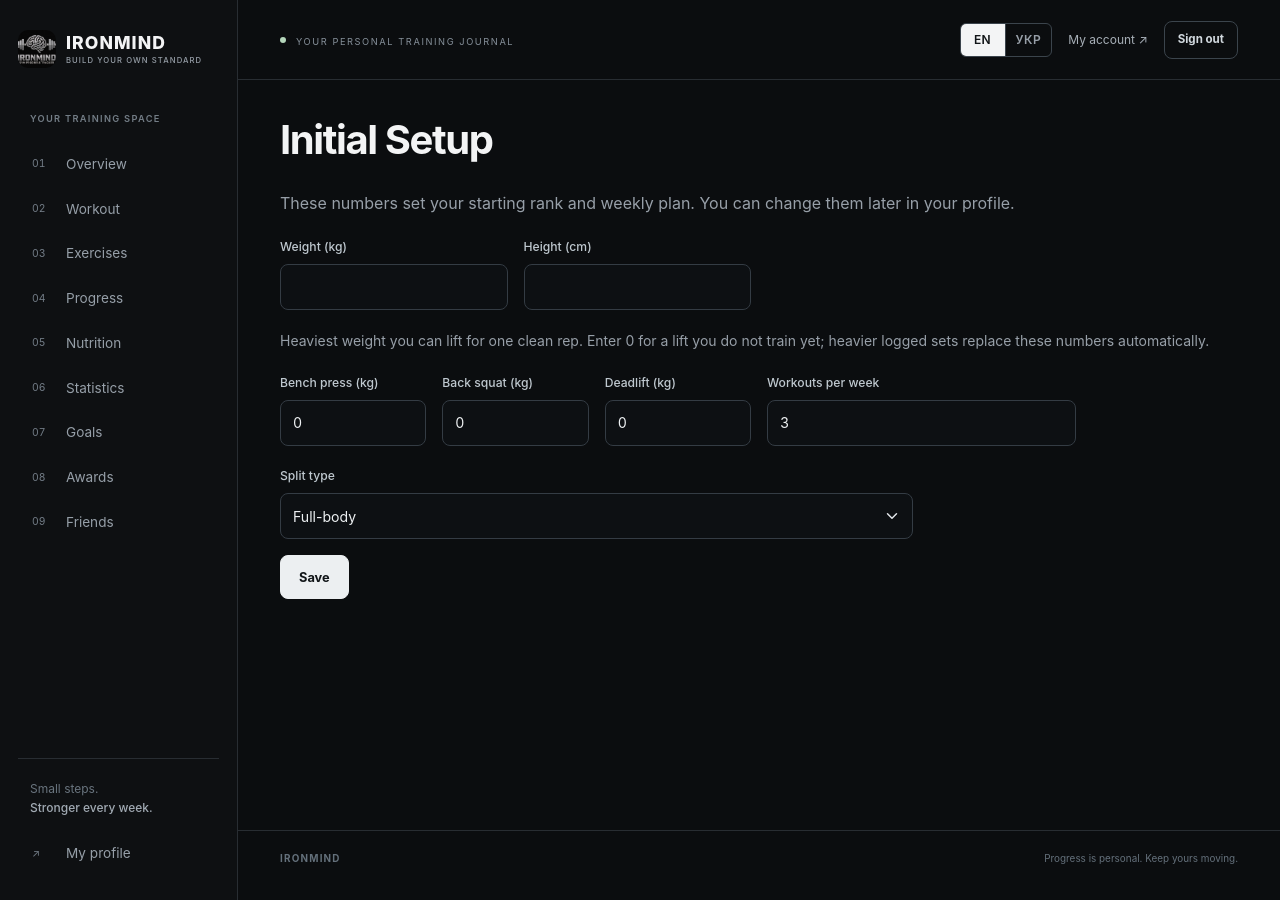
Test: app › asks a new account to finish the setup and then opens the overview
The image size is (1280, 900).
Check: the heading "Initial Setup" is shown, box [280, 115, 493, 164]
In the number field labelled "Weight (kg)": (394, 287) [280, 264, 508, 310], type "80"
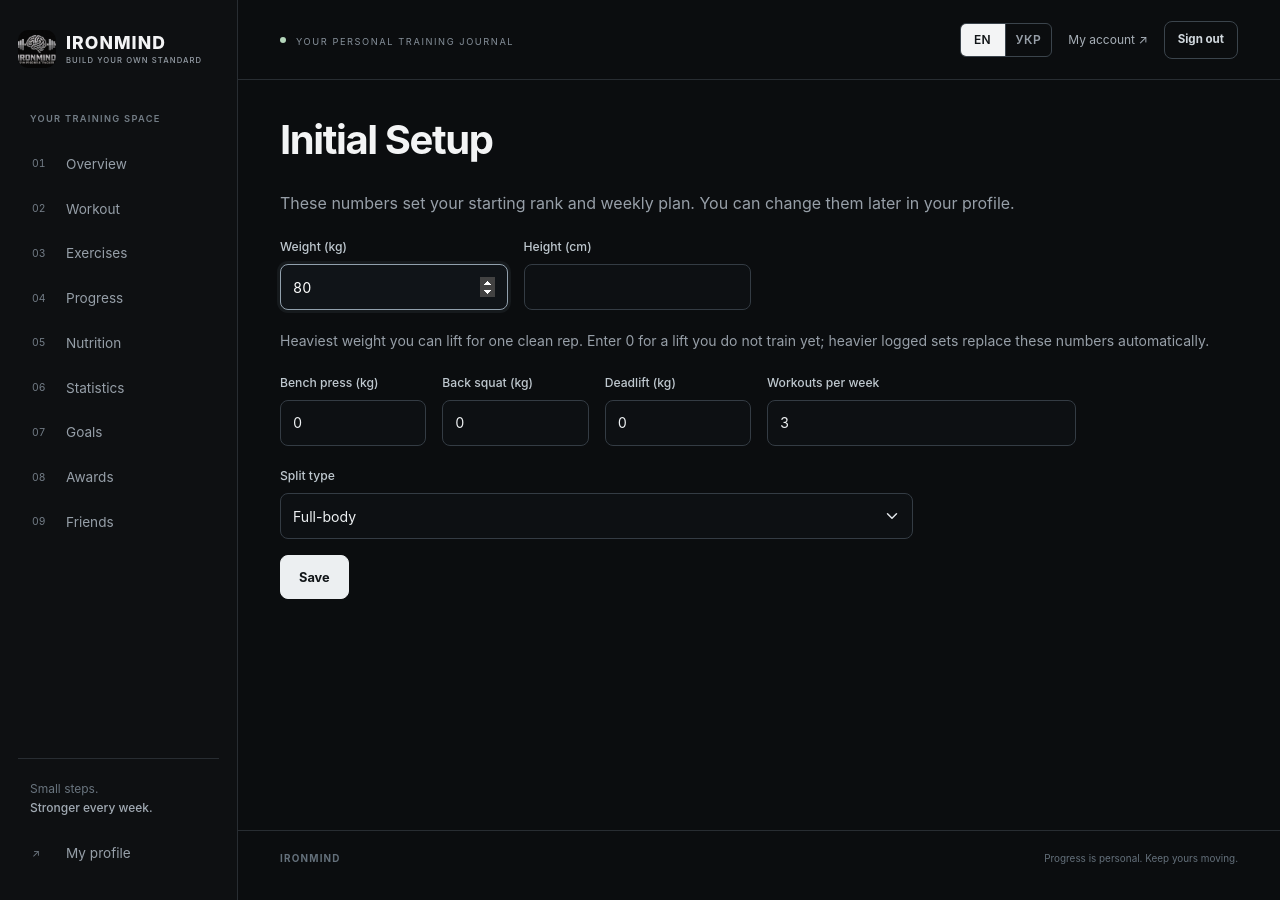
In the number field labelled "Height (cm)": (637, 287) [524, 264, 751, 310], type "180"
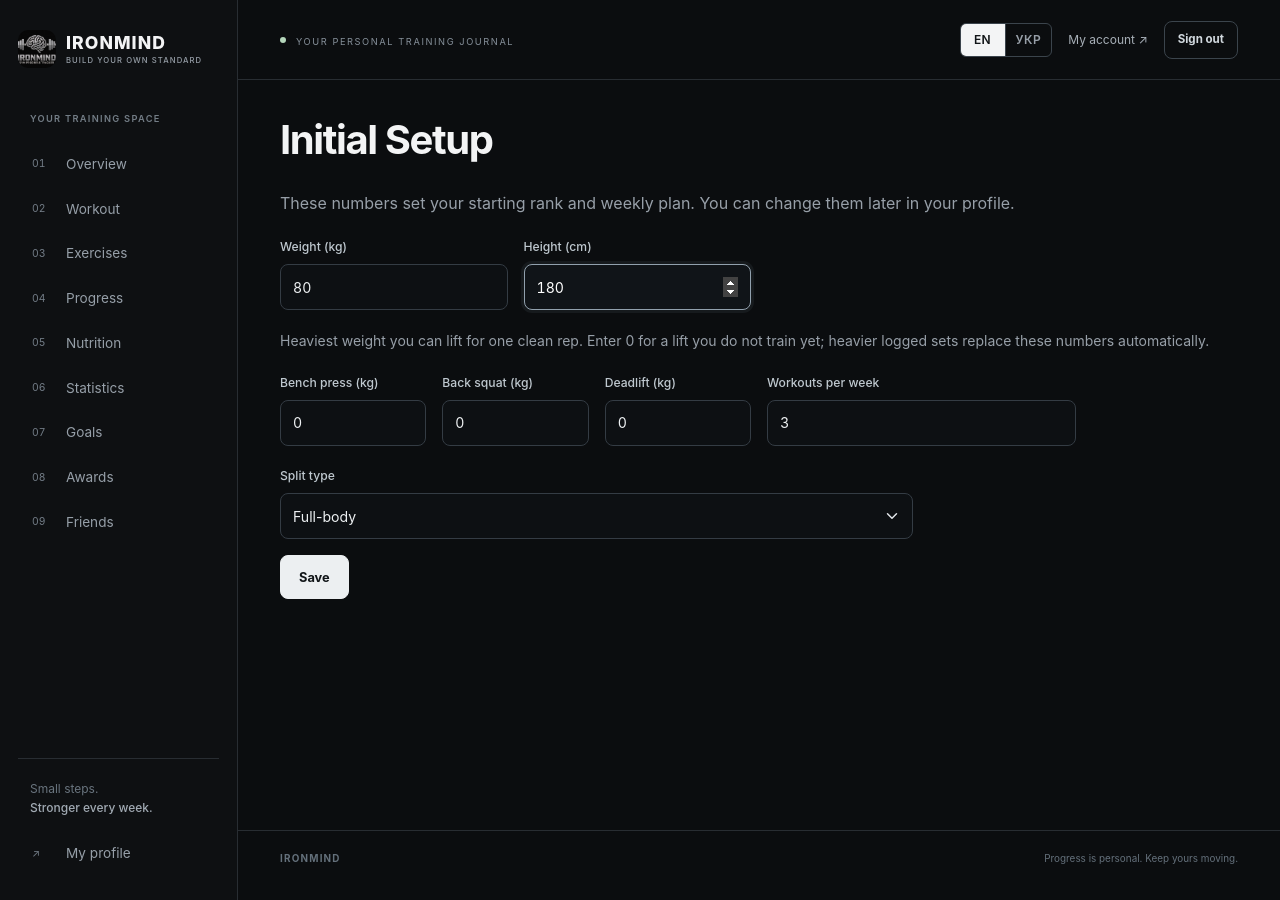
Select "Upper-Lower" in the dropdown labelled "Split type": (597, 516) [280, 494, 913, 540]
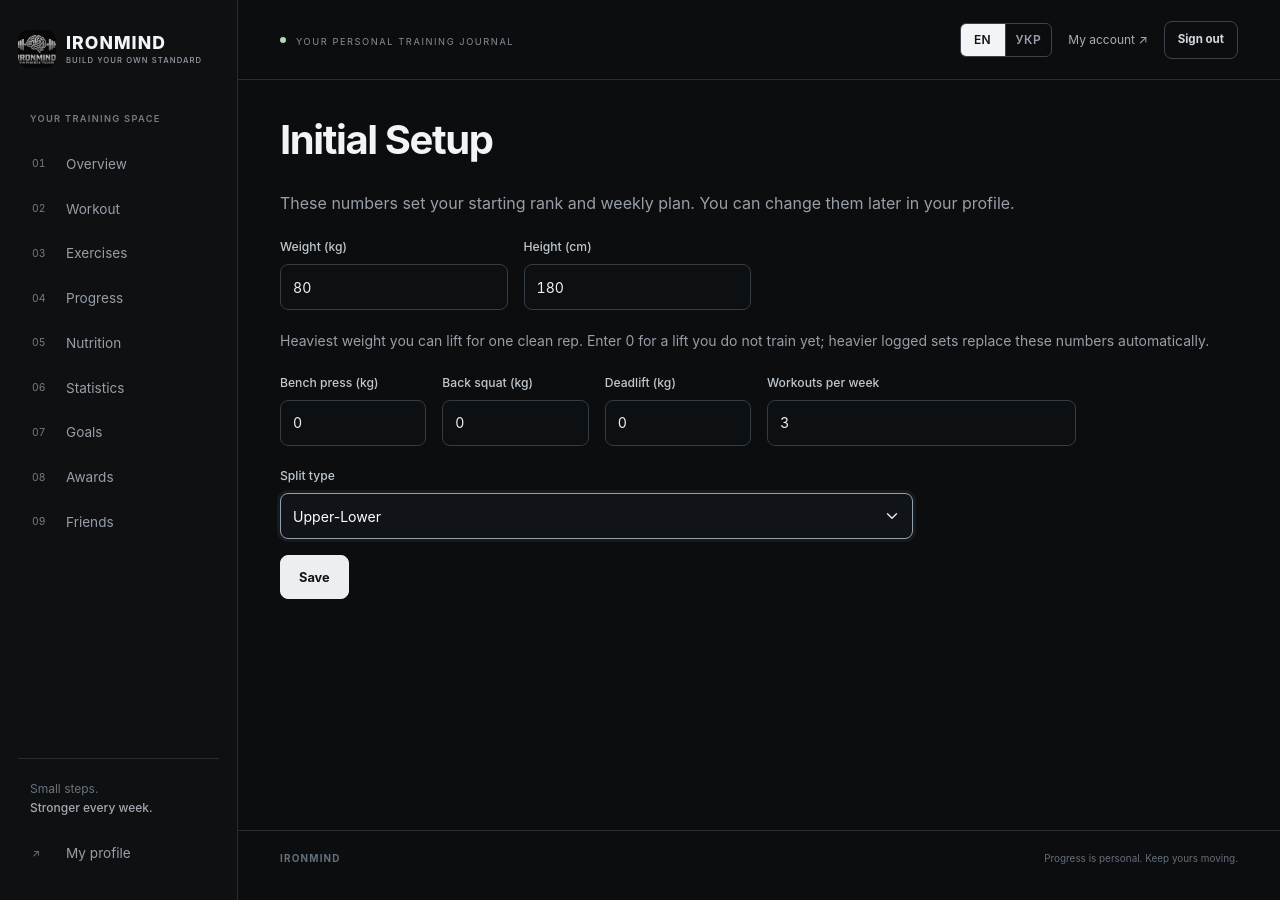
Click the button "Save": (314, 578) [280, 556, 349, 600]
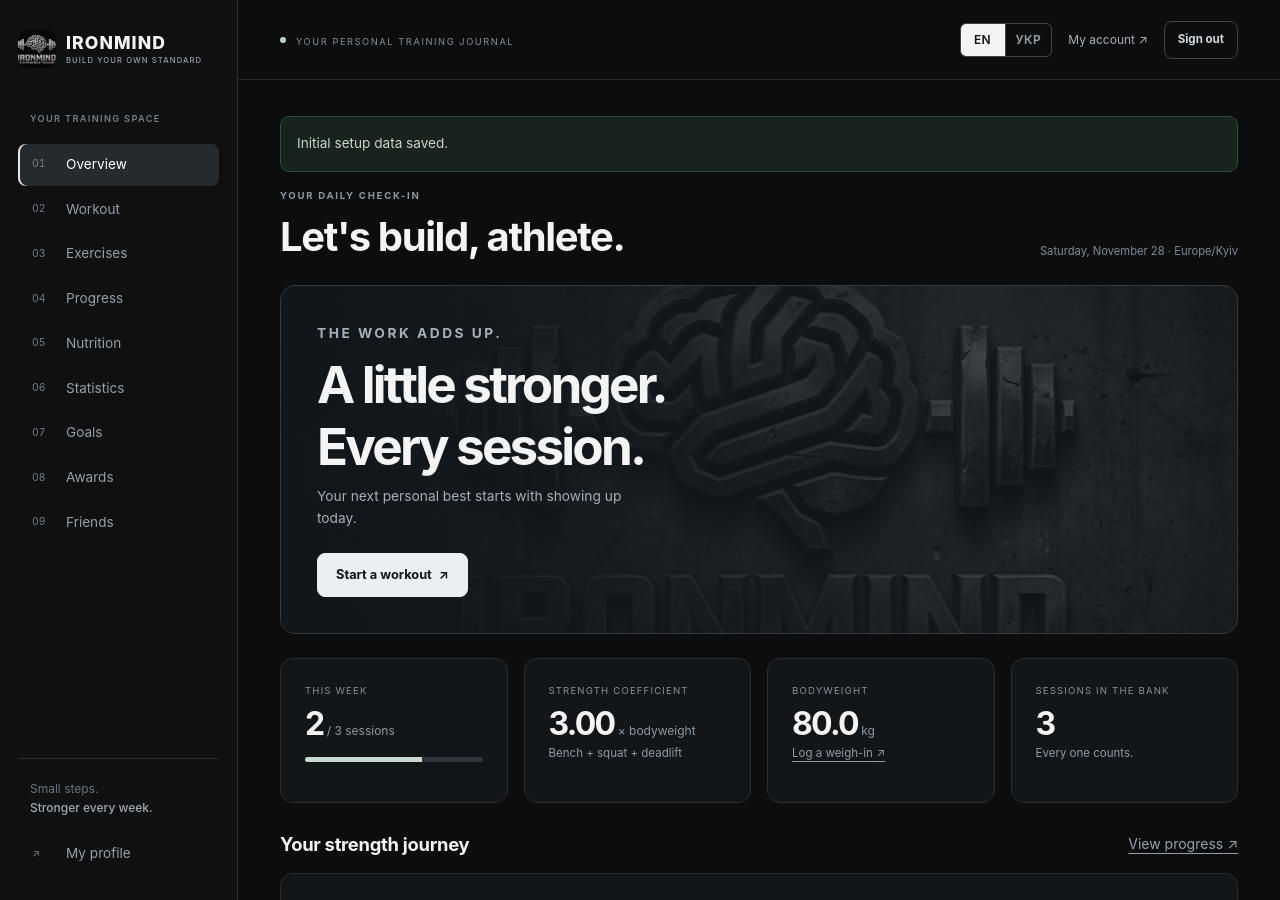
Check: the text "Initial setup data saved." is shown, box [280, 116, 1238, 172]
Check: the heading "Let's build, athlete." is shown, box [280, 213, 624, 261]
